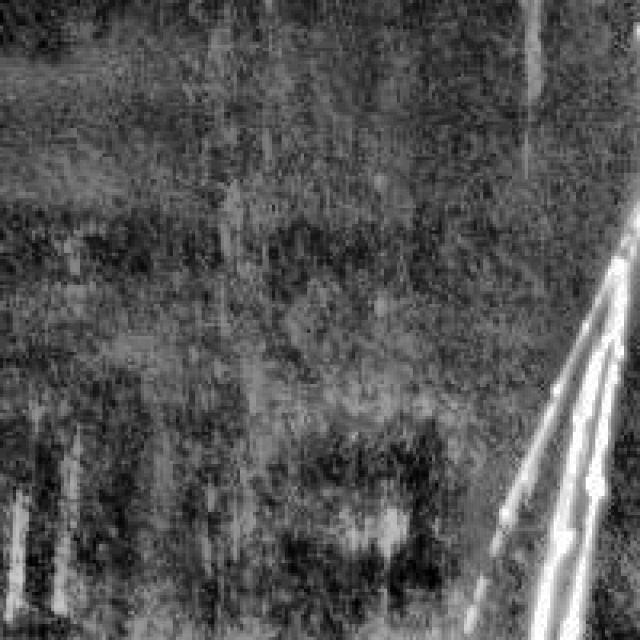Inclusion: (499, 195, 634, 634)
